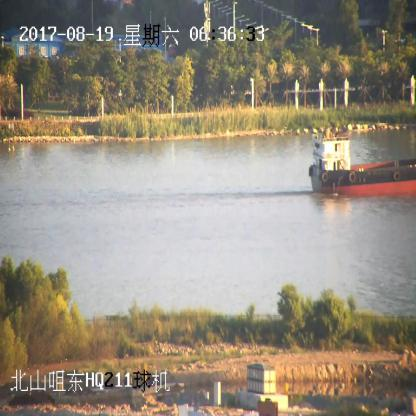Bulk Carrier: (310, 135, 416, 193)
